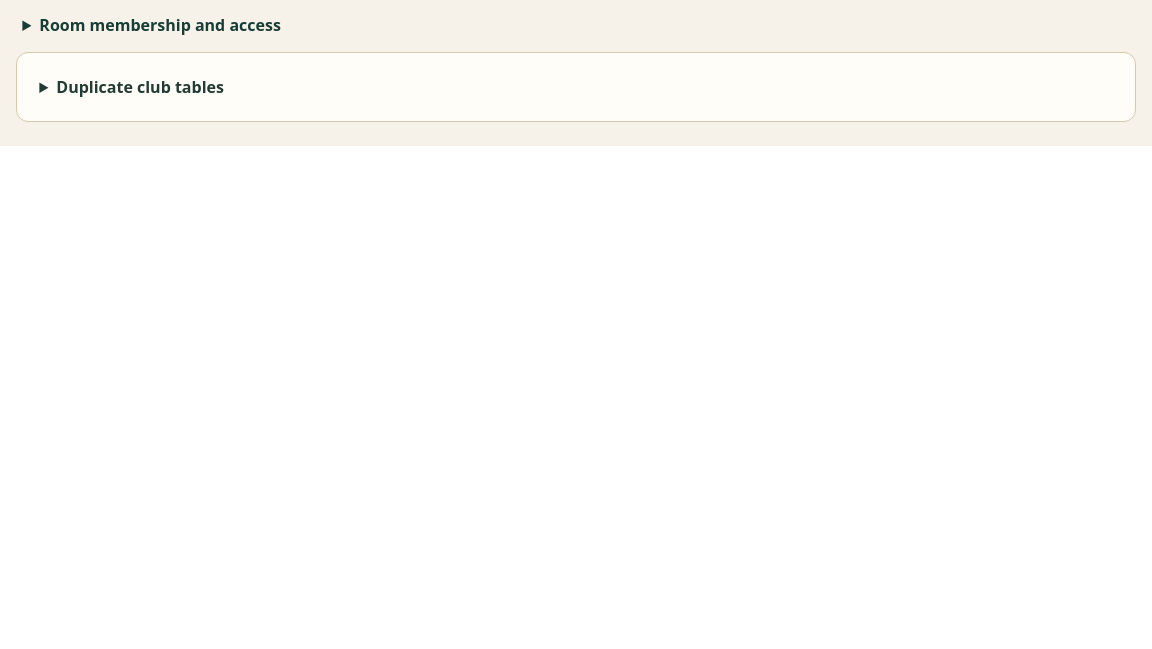
Scenario: versioned agreements and truthful presence › never offers automatic replacement or release during active play, and waits for server replacement
Click the heading "Room membership and access". click: (160, 25)
box: [39, 14, 281, 36]
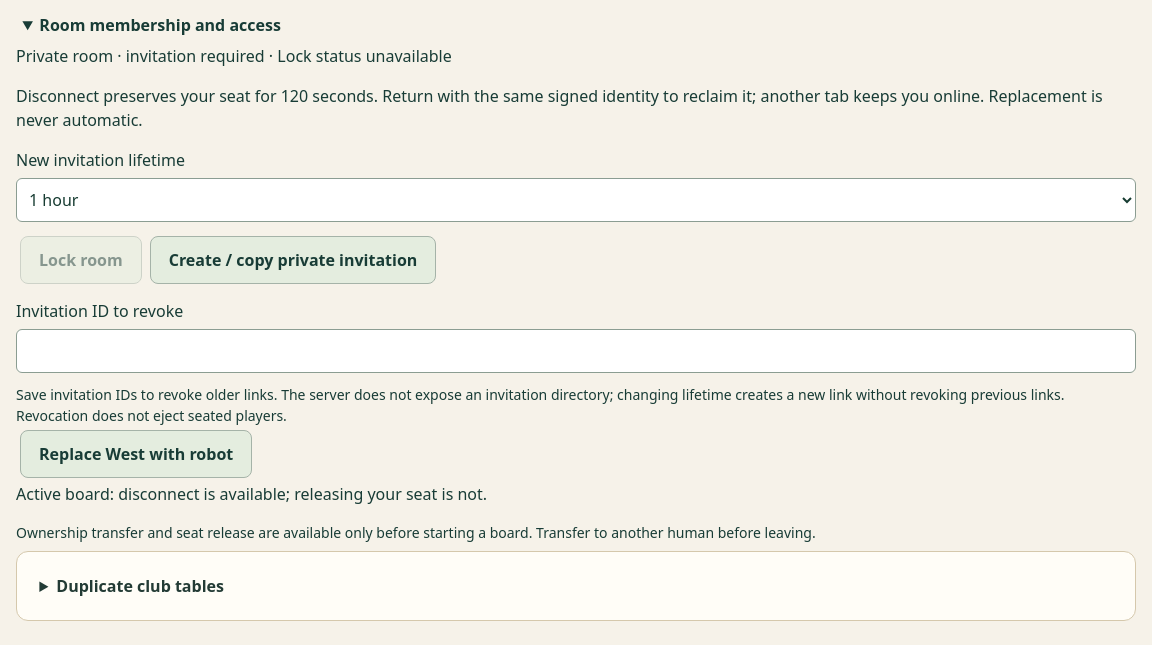
Click the button "Replace West with robot". click: (136, 454)
box: [20, 430, 252, 478]
(page scrolled)
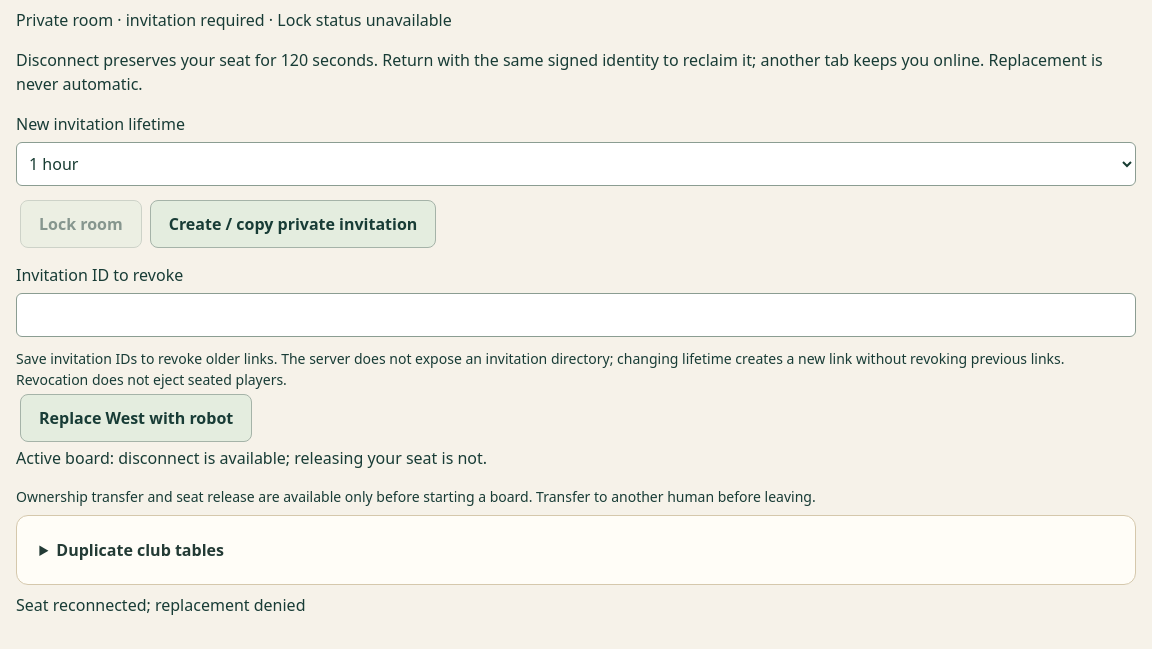
Result: the message "Seat reconnected; replacement denied" is shown at [16, 594, 306, 616]
